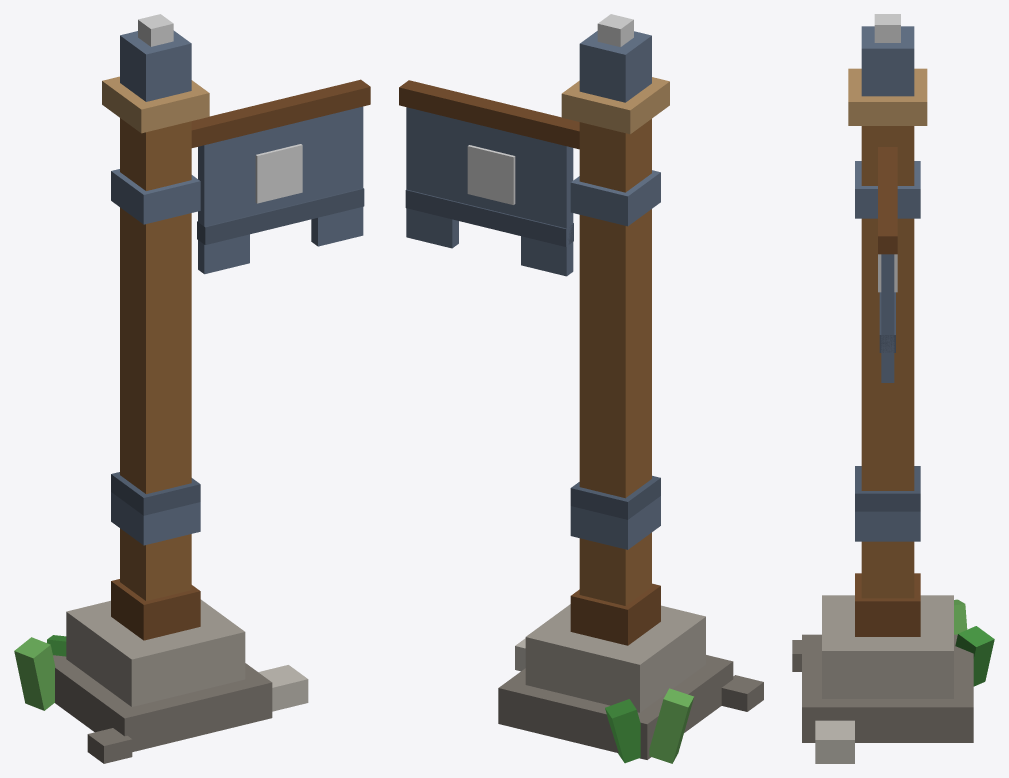
File: territory-marker-raccoon.glb
3 renders of one model, left to right at view 1: azimuth 30°, elevation 25°; view 2: azimuth 150°, elevation 25°; view 3: azimuth 270°, elevation 25°, orthographic.
Parts seen in each view (by area): view 1: marker-post, banner; view 2: marker-post, banner; view 3: marker-post, banner.
Boxes of the visible parts, x1=… form: marker-post: x1=14, y1=14, x2=308, y2=763; banner: x1=191, y1=79, x2=370, y2=274; marker-post: x1=498, y1=14, x2=763, y2=763; banner: x1=399, y1=80, x2=579, y2=276; marker-post: x1=792, y1=14, x2=994, y2=763; banner: x1=878, y1=147, x2=897, y2=382.
Bounding box in the file's own units: 0.5581 × 1.15 × 0.3071.
